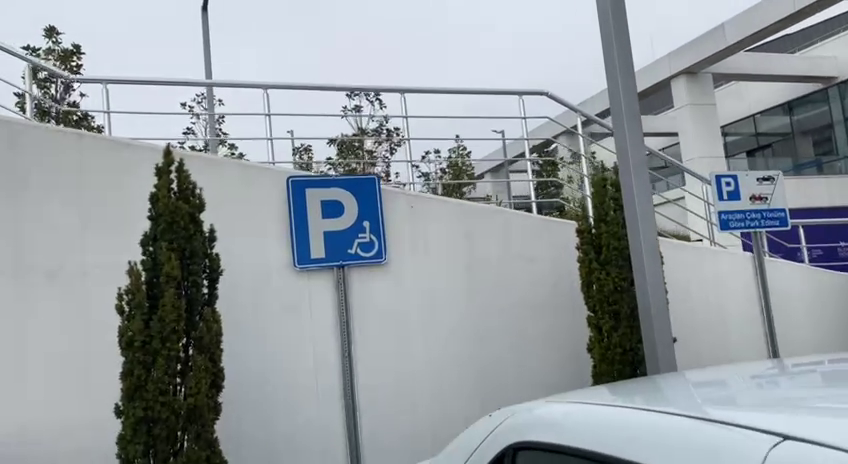parking: (285, 171, 387, 270), (715, 173, 742, 202)
